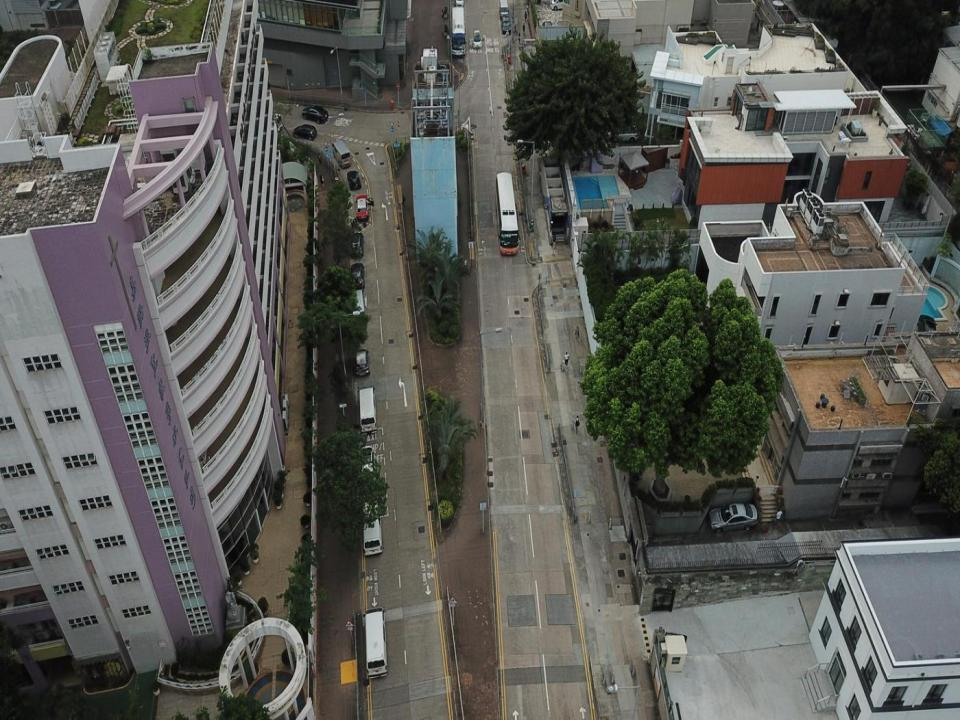bus: (495, 172, 520, 257), (452, 6, 465, 56)
car: (708, 503, 758, 532), (355, 194, 373, 222), (358, 446, 374, 477), (301, 106, 328, 123), (355, 348, 369, 376), (349, 233, 363, 259), (350, 263, 363, 289), (346, 171, 362, 190), (501, 13, 511, 35), (473, 30, 482, 49)
van: (363, 606, 389, 679), (361, 500, 384, 556), (359, 387, 378, 433), (332, 140, 352, 168), (350, 288, 366, 321), (293, 125, 317, 141), (500, 0, 508, 19)
